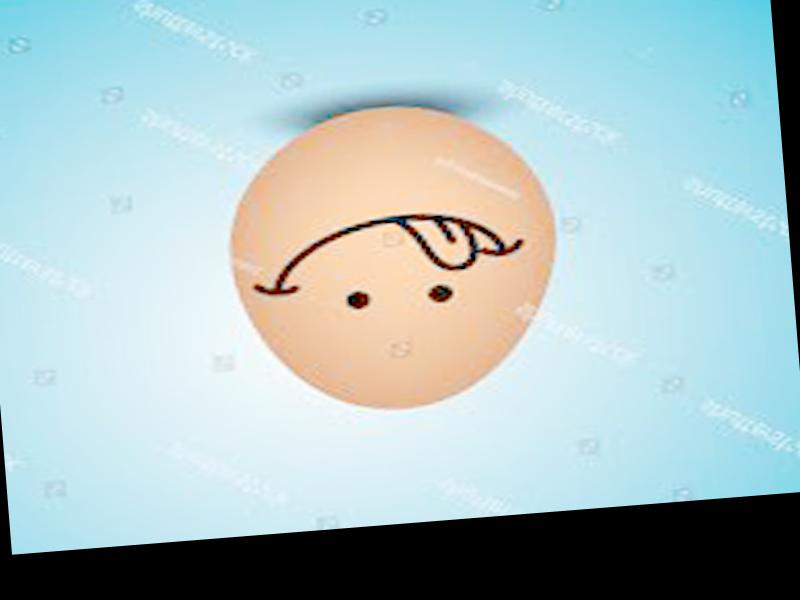Eggs: (218, 94, 569, 421)
